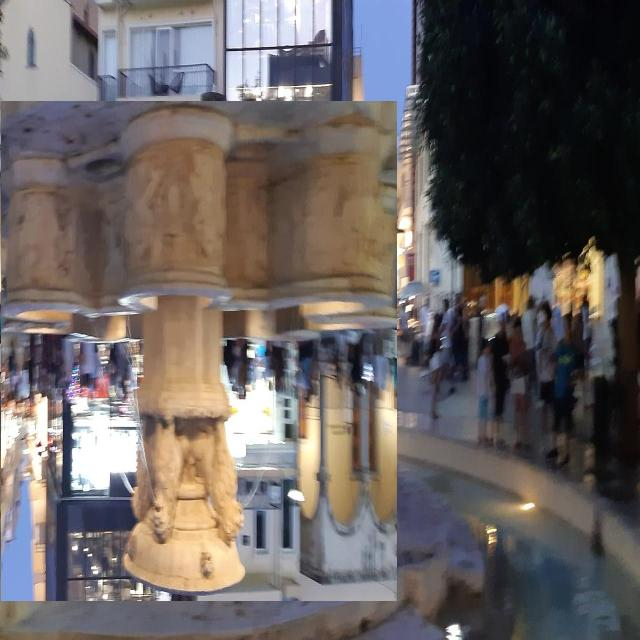Liontaria: (2, 102, 398, 602)
